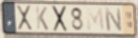8: (70, 7, 85, 32)
K: (35, 6, 49, 32)
M: (85, 6, 106, 32)
N: (103, 7, 124, 33)
X: (15, 5, 35, 32), (52, 5, 69, 33)
